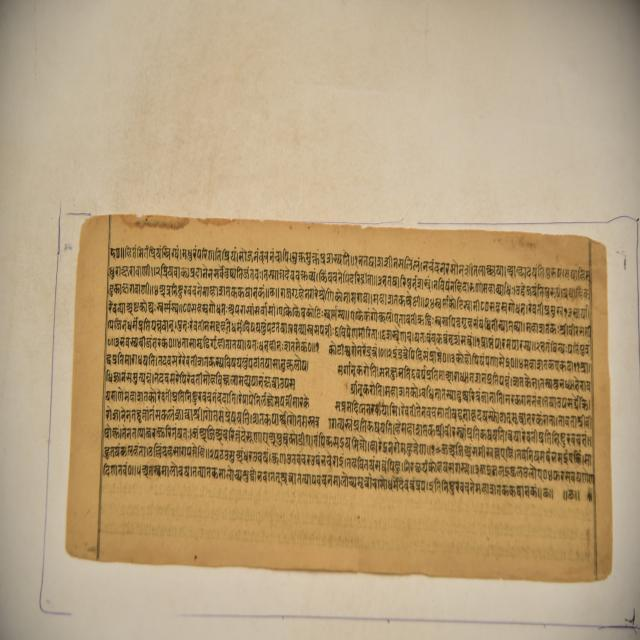text_paragraph: (60, 214, 612, 578)
